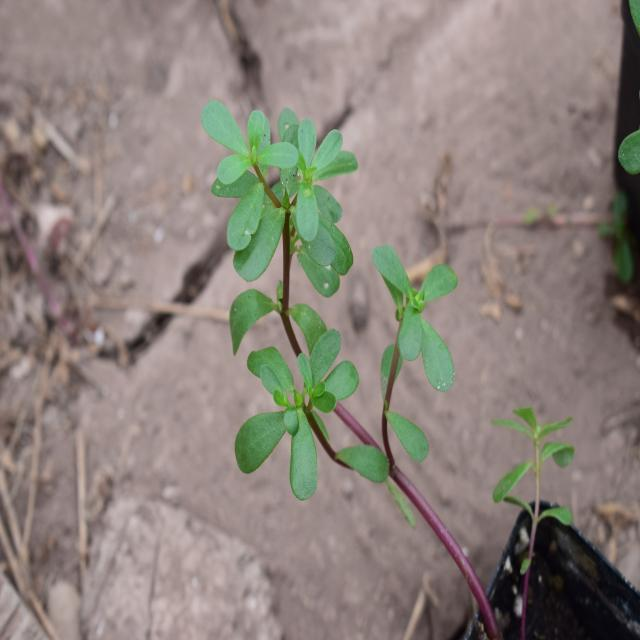purslane: (175, 78, 495, 547)
